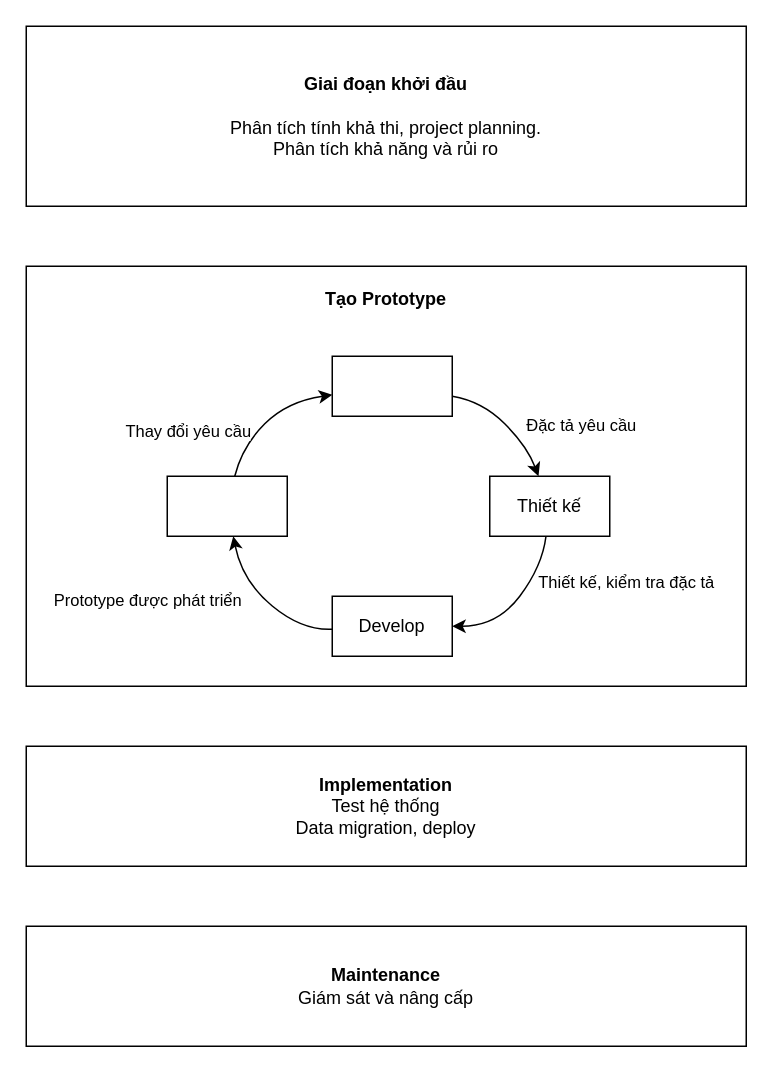
This 773x1073 diagram has some shape labels left out. Here are the shapes that lost their labels. From the top down, the box of each, then its label:
(331, 355, 452, 416): Phân tích
(166, 475, 287, 536): Test và review
